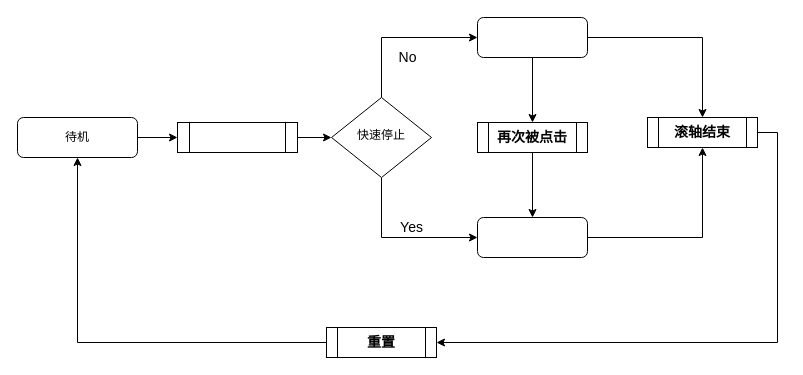
Image size: 803x375. Some labels were removed from this diagram. Here are the shapes that lost their labels. From the top down, the centre of each, then its label:
At point (532, 37): "旋转".
At point (237, 137): "被点击".
At point (532, 237): "旋转(禁用)".
